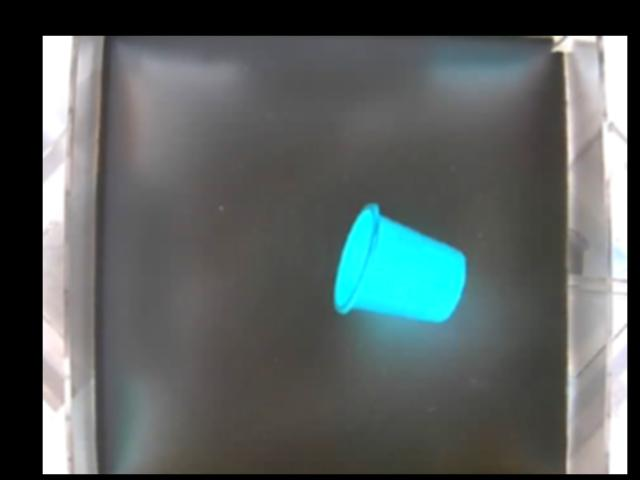Cup: (332, 203, 469, 327)
